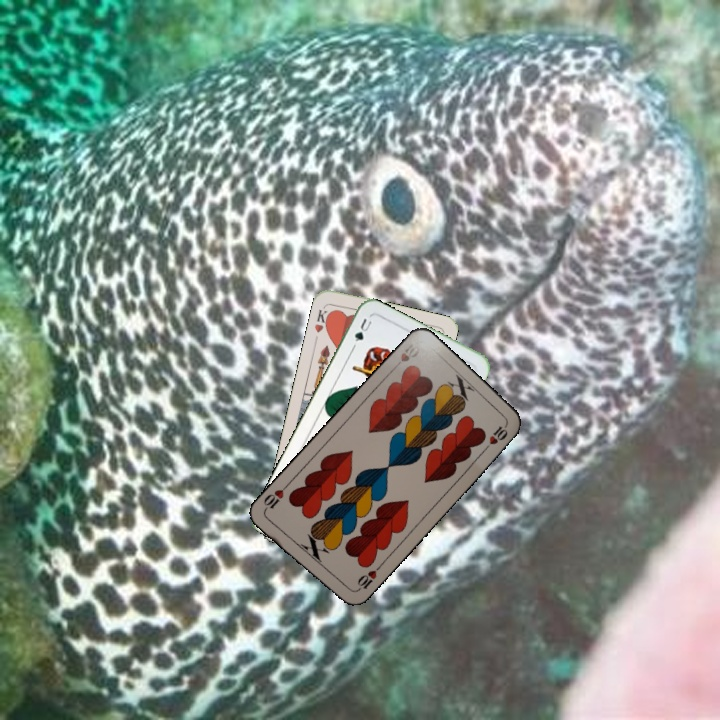GU: (350, 314, 375, 344)
H10: (389, 337, 423, 372), (351, 562, 383, 595)
HK: (310, 302, 334, 335)
